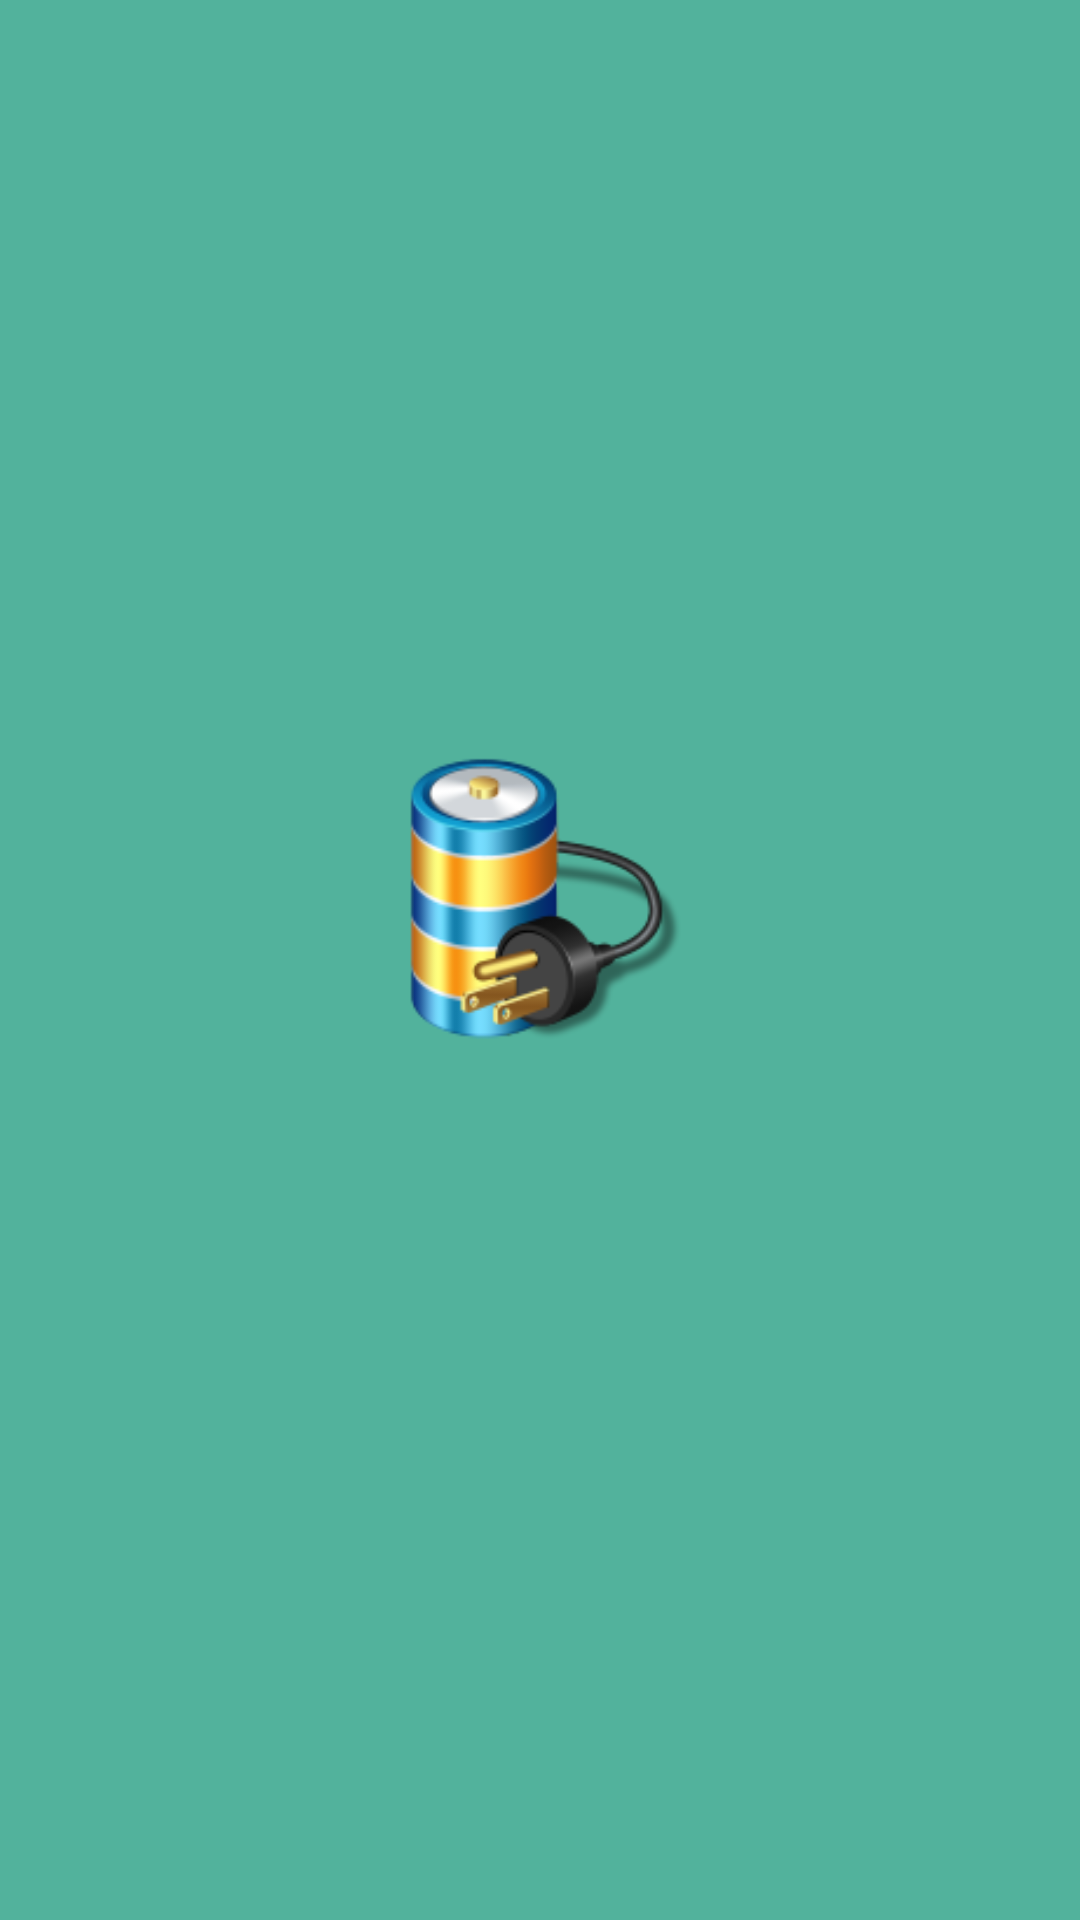

Point at icon controls on the screen. Image size 1080x1920, points as [x,y].
battery: [543,898]
